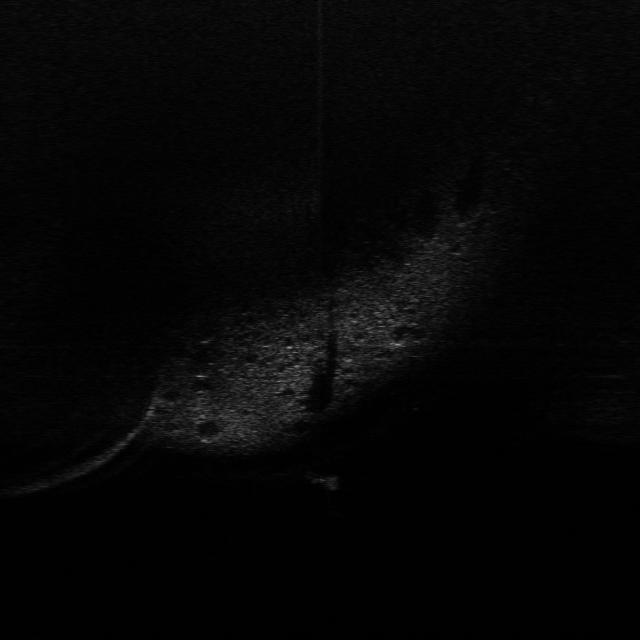cube: (298, 466, 341, 493)
